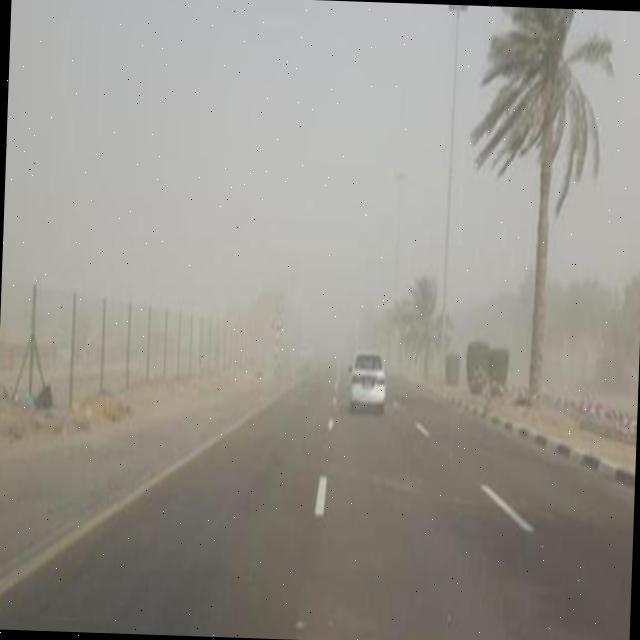car: (348, 352, 388, 413)
